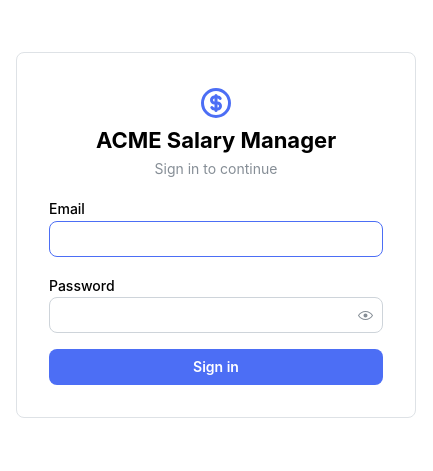
Test case: LoginPage › shows one generic message for bad credentials
This screenshot has width=433, height=471.
Type "hr@acme.example" into the field labelled "Email" at point(216, 238), box [49,220,383,256]
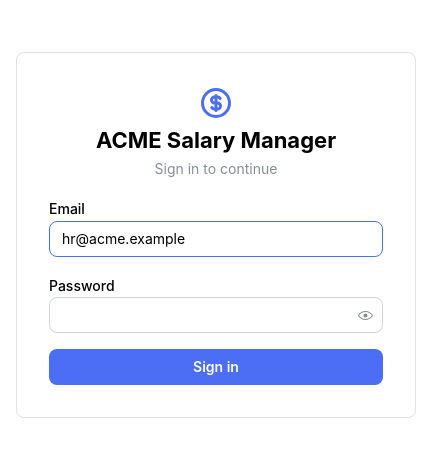
Type "wrong-password" into the password field labelled "Password" at point(216, 315), box [50,298,382,332]
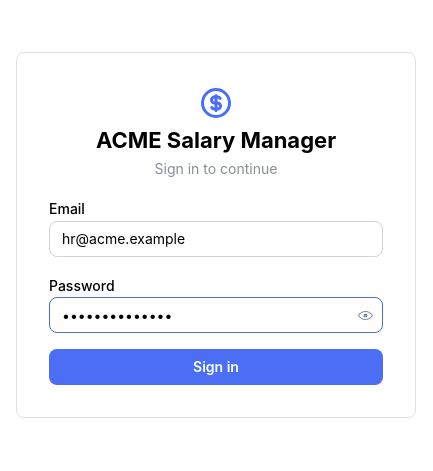
Click the button "Sign in" at point(216, 367), box [49,349,383,385]
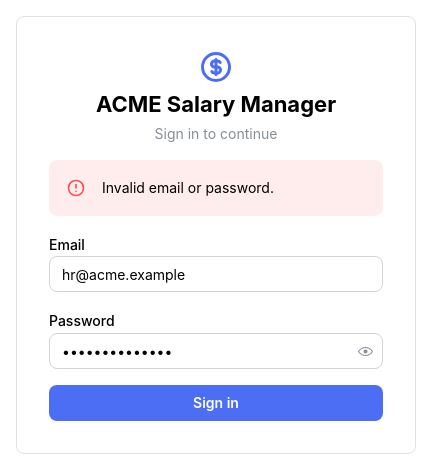
Expected: the message reads "Invalid email or password.", [102,179,274,196]
